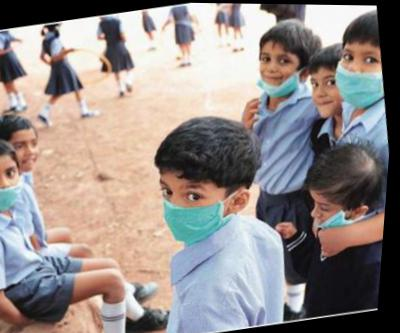NONE: (307, 67, 345, 120), (11, 133, 46, 175)
OK: (158, 165, 233, 246)
WRONG: (330, 35, 391, 109), (255, 45, 306, 99), (311, 187, 351, 236), (1, 160, 31, 216)
